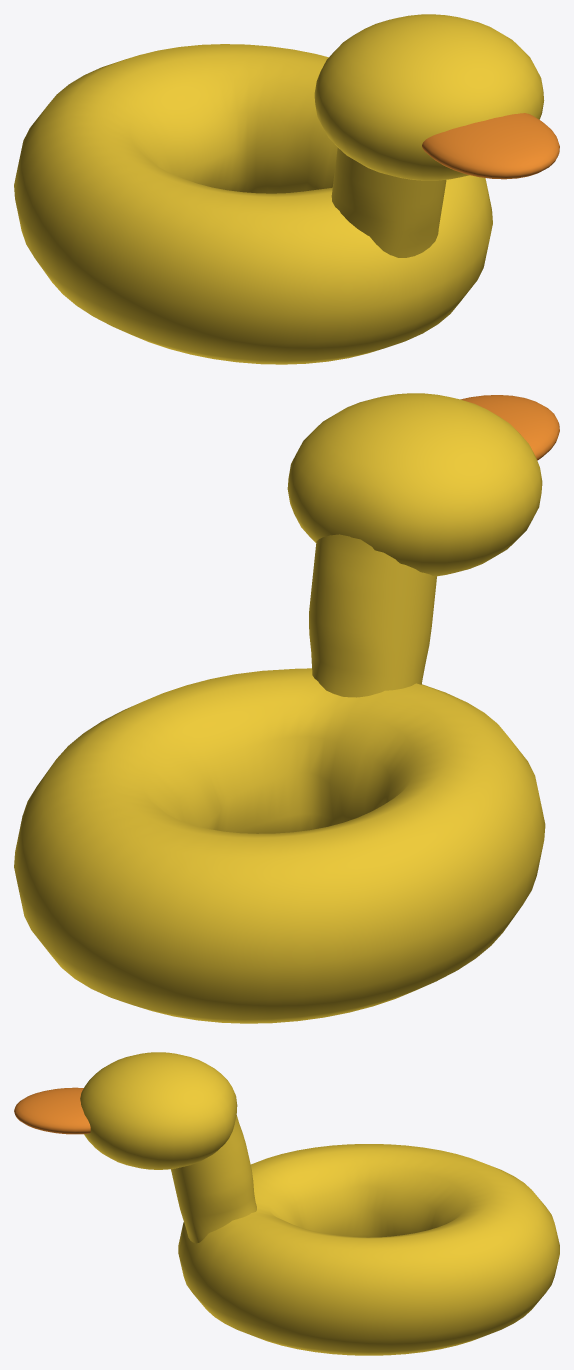
Rendered from DuckBuoy.glb.
3 renders of one model, top to bottom at view 1: azimuth 30°, elevation 25°; view 2: azimuth 150°, elevation 25°; view 3: azimuth 270°, elevation 25°, orthographic. The views are drawn at different scales.
Parts seen in each view (by area): view 1: Torus; view 2: Torus; view 3: Torus.
Boxes of the visible parts, x1,y1,x2,y2 form: Torus: (14,14,559,364); Torus: (14,393,559,1023); Torus: (14,1052,559,1355).
Bounding box in the file's own units: 2.16 × 1.85 × 3.66.
